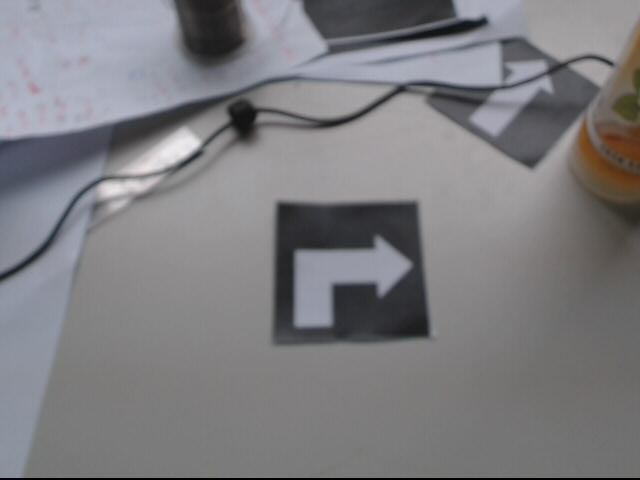right: (276, 198, 434, 340)
